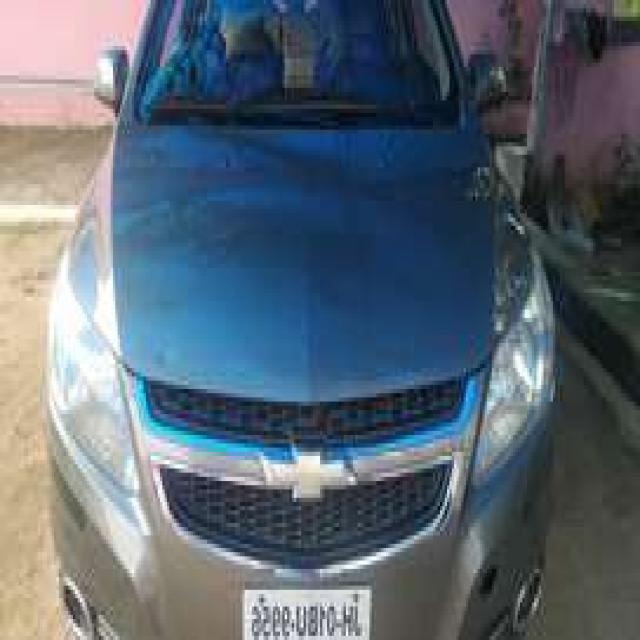license_plate: (242, 579, 373, 640)
